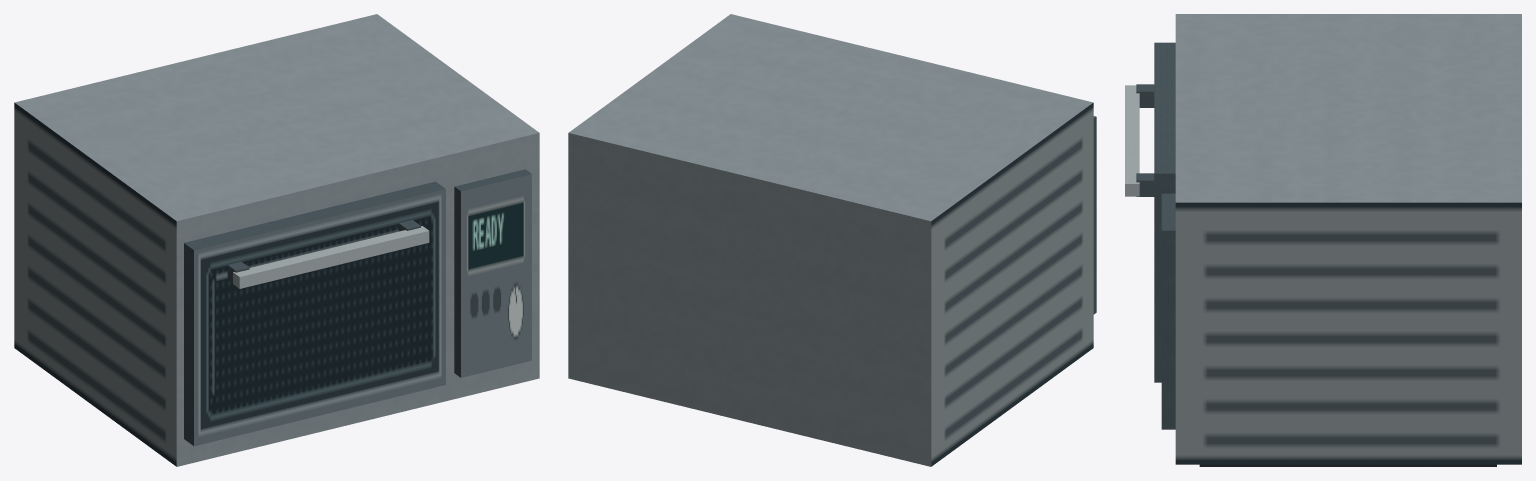
Rendered from Medical_Lab_Oven.glb.
3 renders of one model, left to right at view 1: azimuth 30°, elevation 25°; view 2: azimuth 150°, elevation 25°; view 3: azimuth 270°, elevation 25°, orthographic. The views are drawn at different scales.
Parts seen in each view (by area): view 1: Medical_Lab_Oven; view 2: Medical_Lab_Oven; view 3: Medical_Lab_Oven.
Part boxes in pixels (x1=…): Medical_Lab_Oven: x1=14, y1=14, x2=539, y2=466; Medical_Lab_Oven: x1=568, y1=14, x2=1096, y2=466; Medical_Lab_Oven: x1=1125, y1=14, x2=1521, y2=466.
Size of the model in its own units: 0.765 by 0.5115 by 0.68.
Materials: 1 (1 with a texture image).
